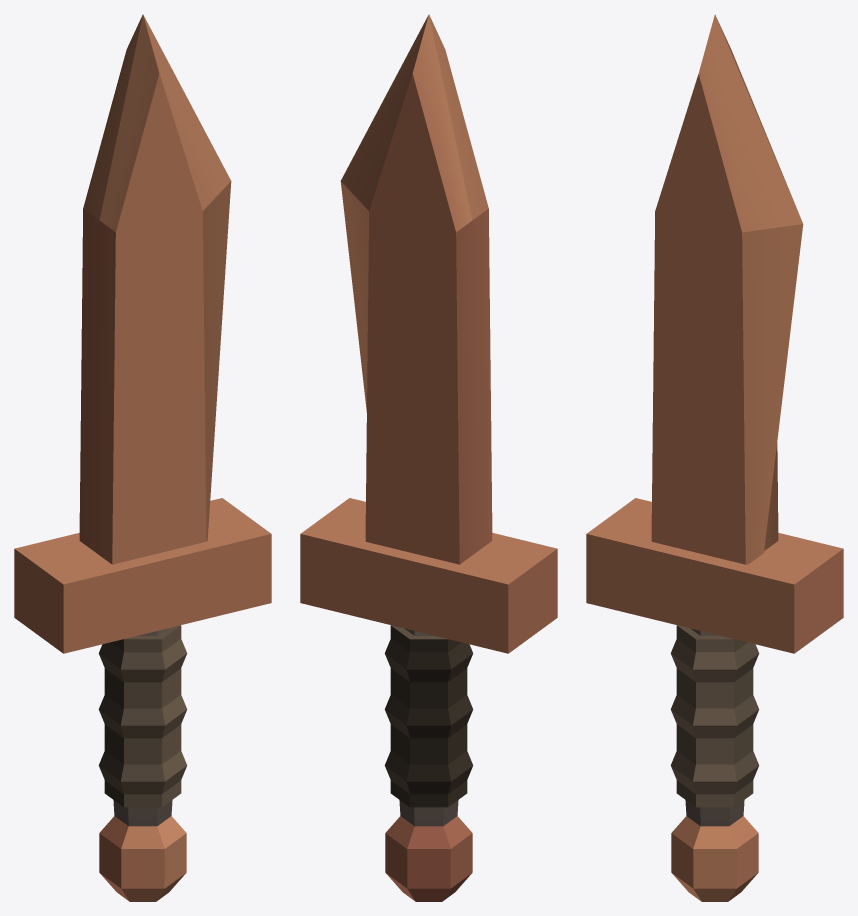
Rendered from rogue_off_0.gltf.
3 renders of one model, left to right at view 1: azimuth 30°, elevation 25°; view 2: azimuth 150°, elevation 25°; view 3: azimuth 330°, elevation 25°, orthographic.
Visible parts, largest first — view 1: rogue_off_0; view 2: rogue_off_0; view 3: rogue_off_0.
Boxes of the visible parts, box(x1,y1,x2,y2) form: rogue_off_0: box(14, 14, 271, 901); rogue_off_0: box(300, 14, 557, 901); rogue_off_0: box(586, 14, 843, 901).
Size of the model in its own units: 0.22 by 0.888 by 0.09.
1 material, 1 textured.
